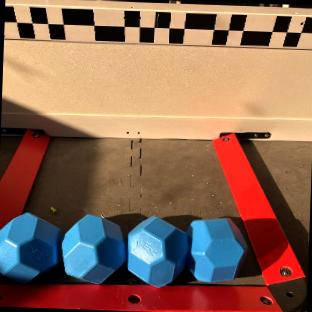V5_BLUE: (62, 215, 125, 283), (0, 213, 58, 282), (187, 218, 246, 281)
